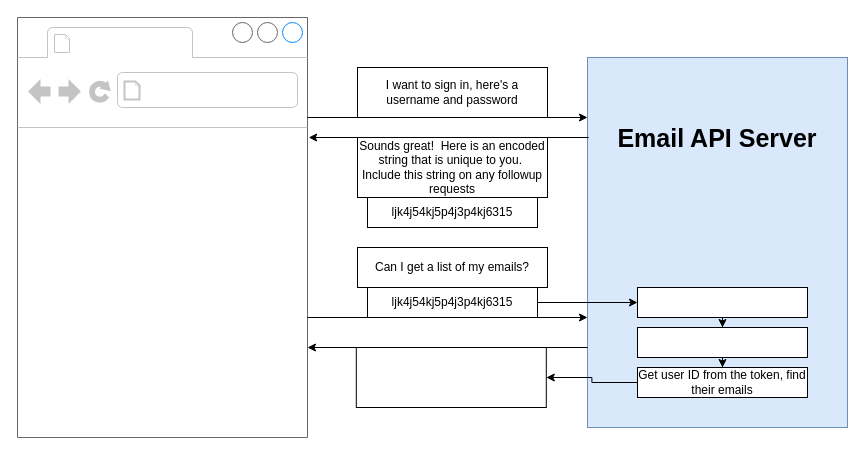
The diagram is 865 pixels wide and 455 high, and some of its shapes have lost their labels. Here are the shapes that lost their labels. From the top down, the box of each, then its label:
(76, 28, 188, 56): Page 1
(636, 286, 808, 318): Is it a valid token?
(636, 326, 808, 358): Parse the token, pull information out of it
(355, 346, 546, 408): Welcome back, test5! Sure, here is a list of your emails
